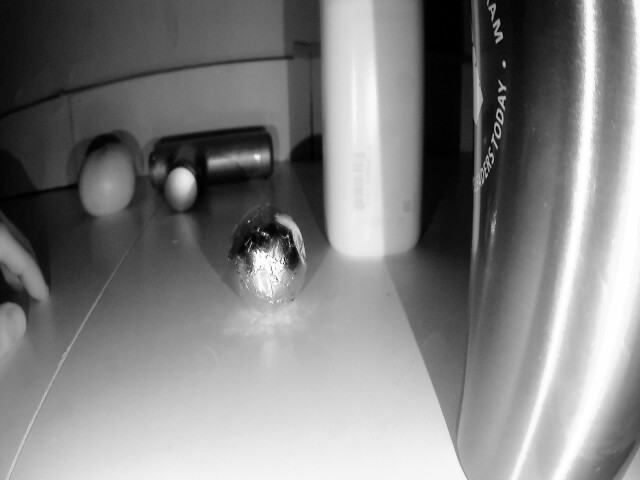black: (220, 203, 307, 320)
